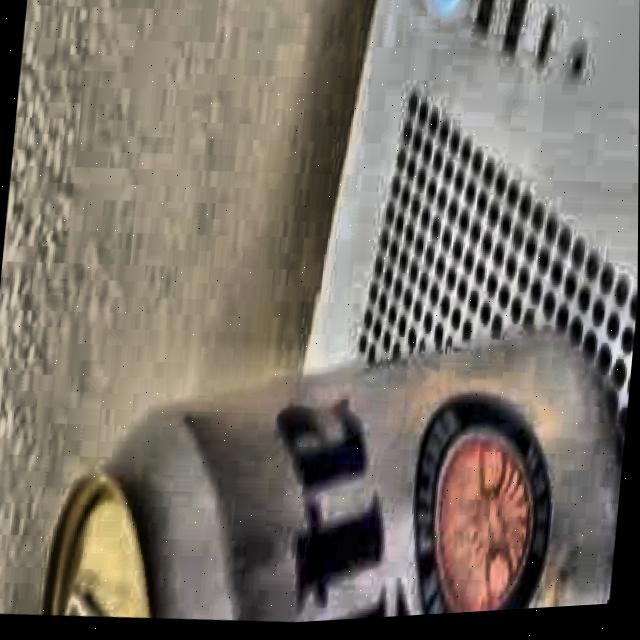metal: (31, 273, 636, 638)
